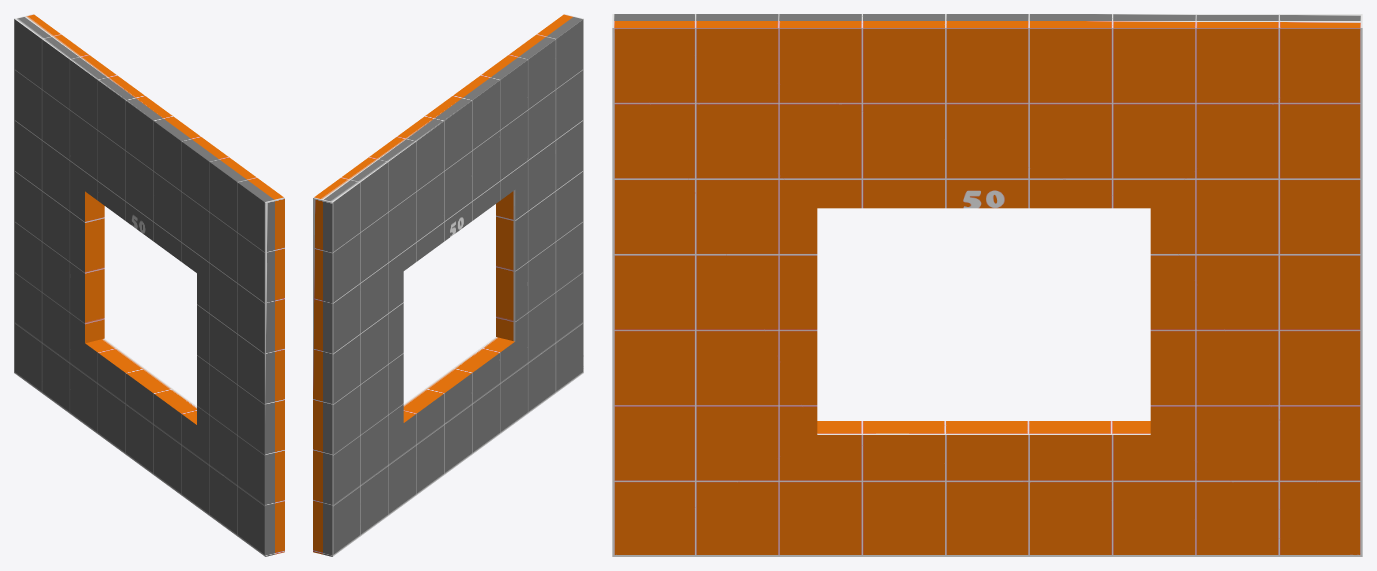
Rendered from casa_pared_05.fbx.
The picture shows the model from 3 angles, left to right: view 1: azimuth 30°, elevation 25°; view 2: azimuth 150°, elevation 25°; view 3: azimuth 270°, elevation 25°; orthographic projection. The views are drawn at different scales.
Visible parts, largest first — view 1: casa_pared_05; view 2: casa_pared_05; view 3: casa_pared_05.
Part boxes in pixels (<box>): casa_pared_05: <box>14,14,284,556</box>; casa_pared_05: <box>313,14,583,556</box>; casa_pared_05: <box>612,14,1362,556</box>.
Size of the model in its own units: 20 by 350 by 450.
